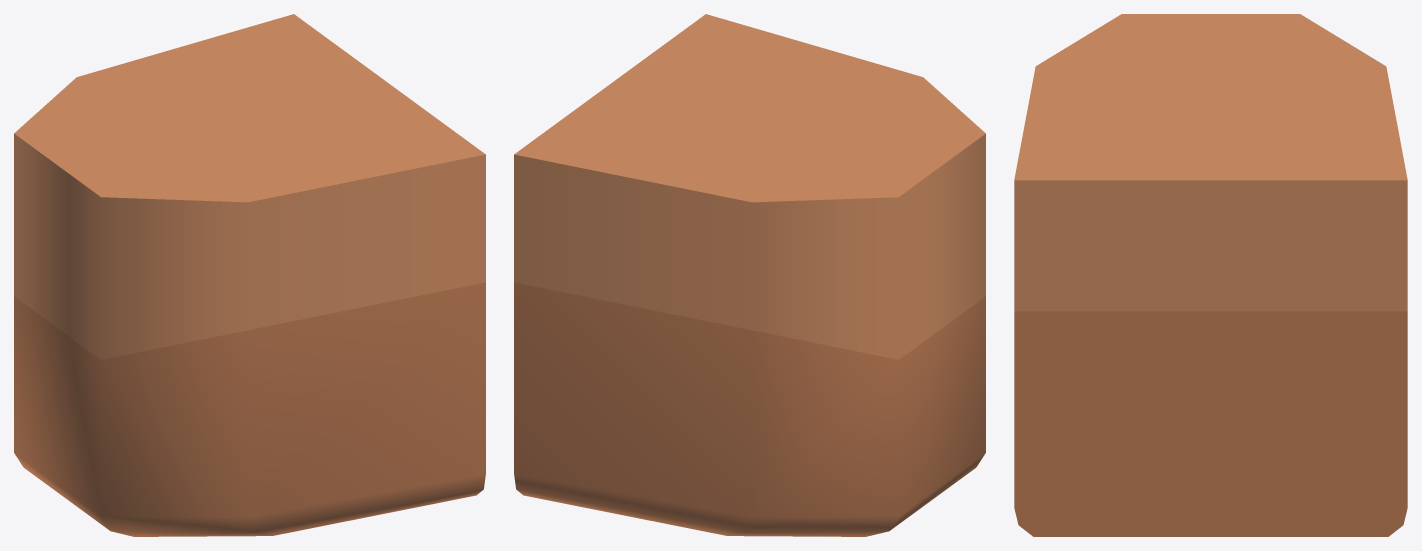
Rendered from normal_tile_botton_left.glb.
3 renders of one model, left to right at view 1: azimuth 30°, elevation 25°; view 2: azimuth 150°, elevation 25°; view 3: azimuth 270°, elevation 25°, orthographic. The views are drawn at different scales.
Visible parts, largest first — view 1: tile_botton_left; view 2: tile_botton_left; view 3: tile_botton_left.
Boxes of the visible parts, x1=… form: tile_botton_left: x1=14, y1=14, x2=485, y2=536; tile_botton_left: x1=514, y1=14, x2=985, y2=536; tile_botton_left: x1=1014, y1=14, x2=1407, y2=536.
Size of the model in its own units: 0.5 by 0.5 by 0.5.
